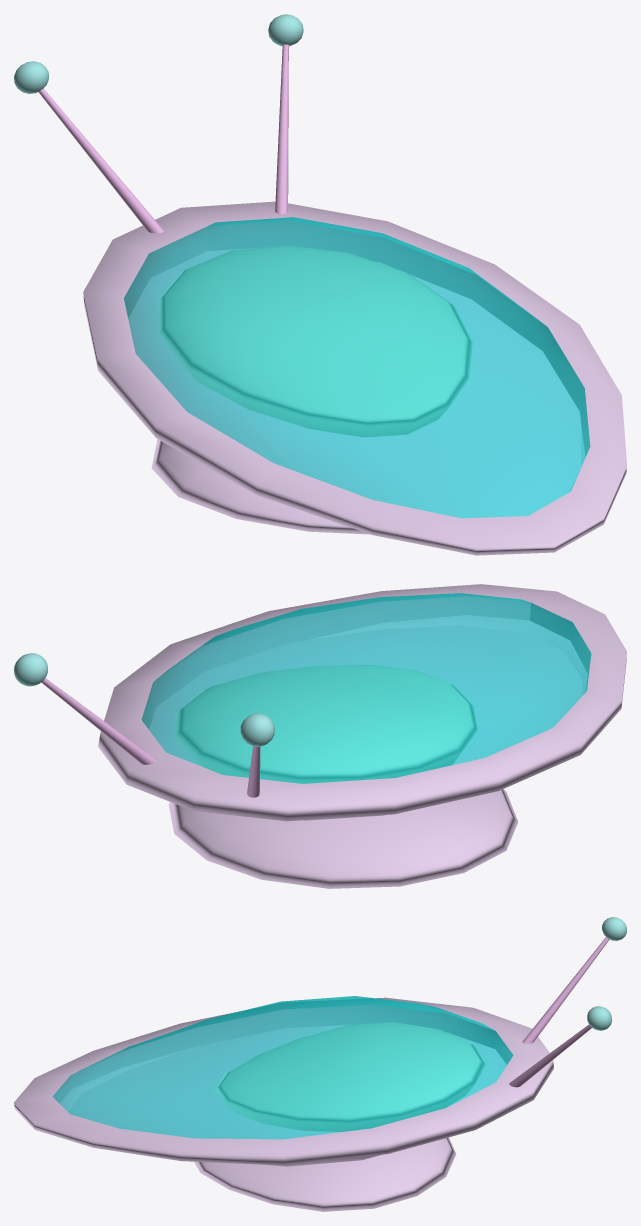
File: Spaceship3.fbx
3 views of the same model, one above another, from view 1: azimuth 30°, elevation 25°; view 2: azimuth 150°, elevation 25°; view 3: azimuth 270°, elevation 25° (orthographic). The views are drawn at different scales.
Parts seen in each view (by area): view 1: polySurface2, polySurface1, pSphere5, pSphere6, pCylinder13, pCylinder12; view 2: polySurface1, polySurface2, pSphere5, pSphere6, pCylinder12, pCylinder13; view 3: polySurface2, polySurface1, pSphere5, pSphere6, pCylinder13, pCylinder12.
Part boxes in pixels (left/top/right/bottom): polySurface2: left=124, top=217, right=590, bottom=518; polySurface1: left=83, top=201, right=626, bottom=555; pSphere5: left=158, top=245, right=472, bottom=436; pSphere6: left=151, top=439, right=370, bottom=534; pCylinder13: left=14, top=61, right=163, bottom=233; pCylinder12: left=268, top=14, right=303, bottom=214; polySurface1: left=98, top=584, right=626, bottom=821; polySurface2: left=141, top=593, right=591, bottom=783; pSphere5: left=175, top=665, right=477, bottom=783; pSphere6: left=168, top=789, right=517, bottom=888; pCylinder12: left=14, top=653, right=156, bottom=764; pCylinder13: left=240, top=713, right=274, bottom=797; polySurface2: left=53, top=996, right=513, bottom=1139; polySurface1: left=14, top=997, right=553, bottom=1166; pSphere5: left=215, top=1022, right=485, bottom=1131; pSphere6: left=194, top=1137, right=456, bottom=1211; pCylinder13: left=522, top=917, right=626, bottom=1043; pCylinder12: left=509, top=1006, right=611, bottom=1087.
Size of the model in its own units: 3.78 by 2.35 by 6.52.
